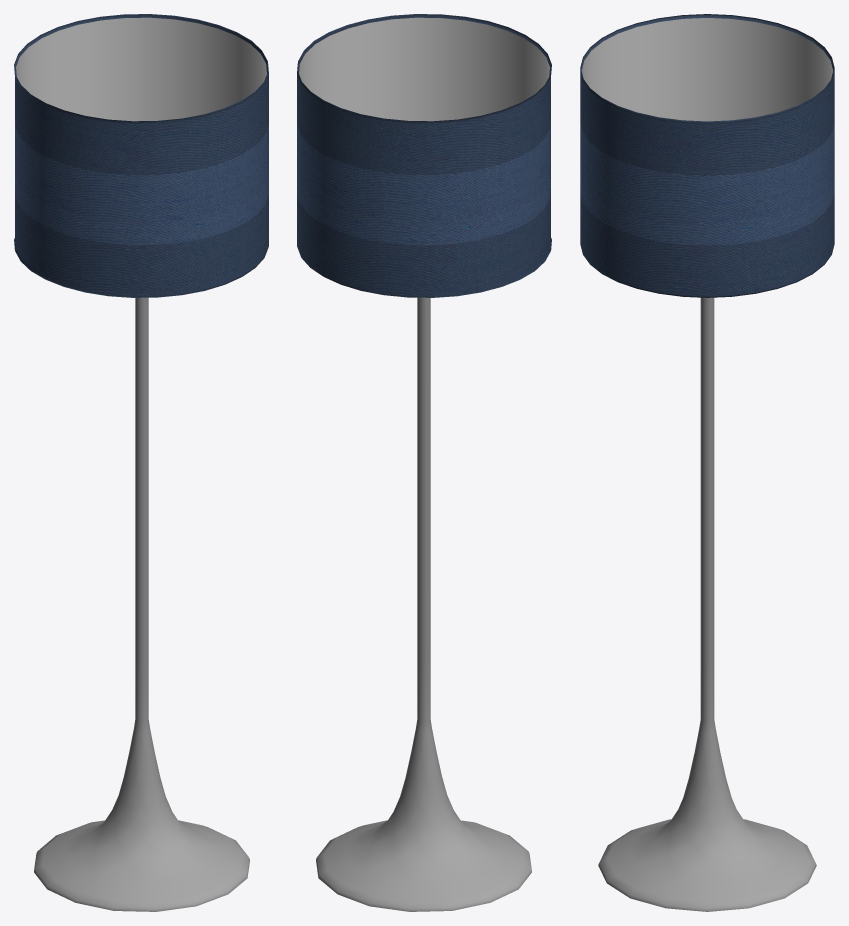
Rendered from sc_floor_lamp.glb.
3 renders of one model, left to right at view 1: azimuth 30°, elevation 25°; view 2: azimuth 150°, elevation 25°; view 3: azimuth 270°, elevation 25°, orthographic.
Parts seen in each view (by area): view 1: 67_LampshaderOuter, 00_LampStand, 06_LampshadeInner; view 2: 67_LampshaderOuter, 00_LampStand, 06_LampshadeInner; view 3: 67_LampshaderOuter, 00_LampStand, 06_LampshadeInner.
Part boxes in pixels (box(x1,y1,x2,y2)): 67_LampshaderOuter: box(14, 14, 268, 297); 00_LampStand: box(34, 297, 249, 911); 06_LampshadeInner: box(16, 17, 266, 121); 67_LampshaderOuter: box(297, 14, 551, 297); 00_LampStand: box(316, 297, 531, 911); 06_LampshadeInner: box(299, 17, 549, 121); 67_LampshaderOuter: box(580, 14, 834, 297); 00_LampStand: box(598, 297, 816, 911); 06_LampshadeInner: box(581, 18, 832, 121).
Bounding box in the file's own units: 0.4562 × 1.57 × 0.454.
Materials: 3 (1 with a texture image).
